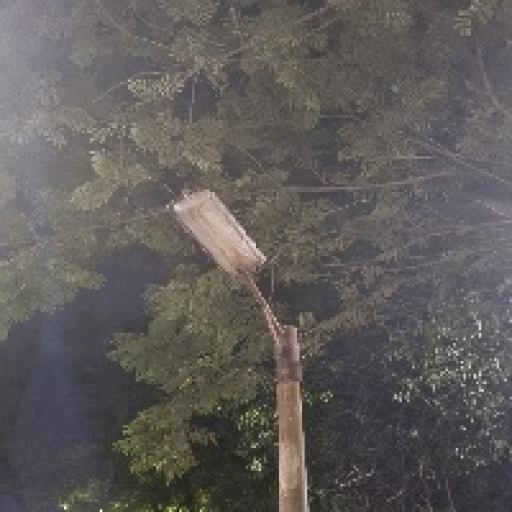Not Working: (158, 175, 290, 299)
